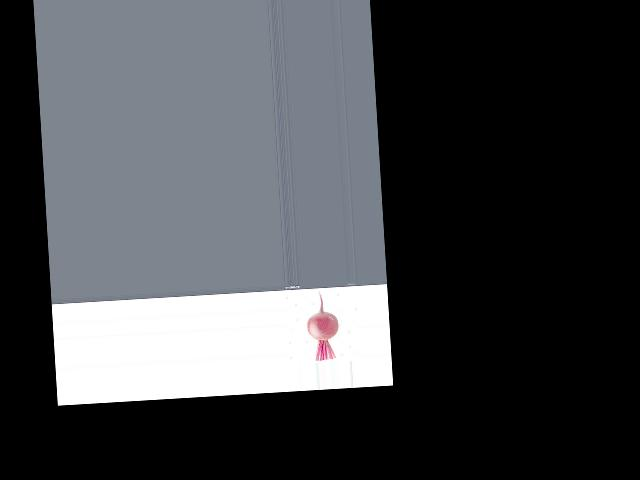beet: (305, 289, 340, 361)
